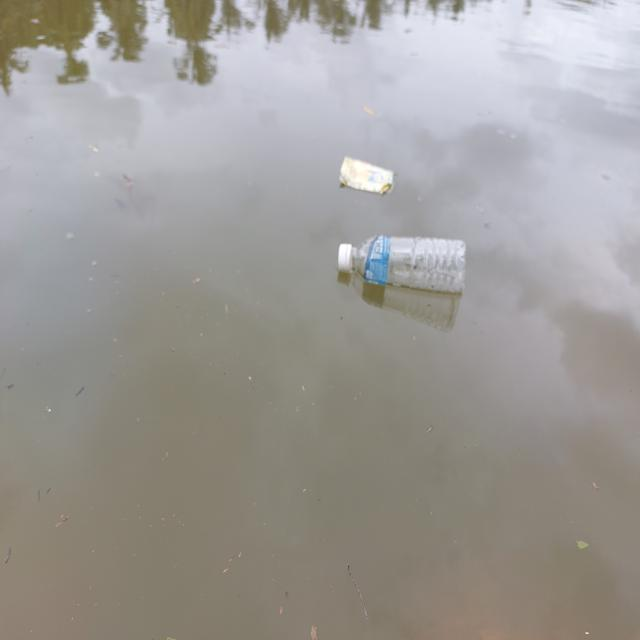paper: (332, 154, 398, 197)
waterbottle: (324, 226, 473, 311)
